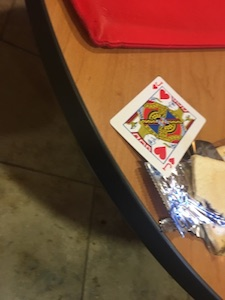JackOfHearts: (105, 73, 207, 179)
